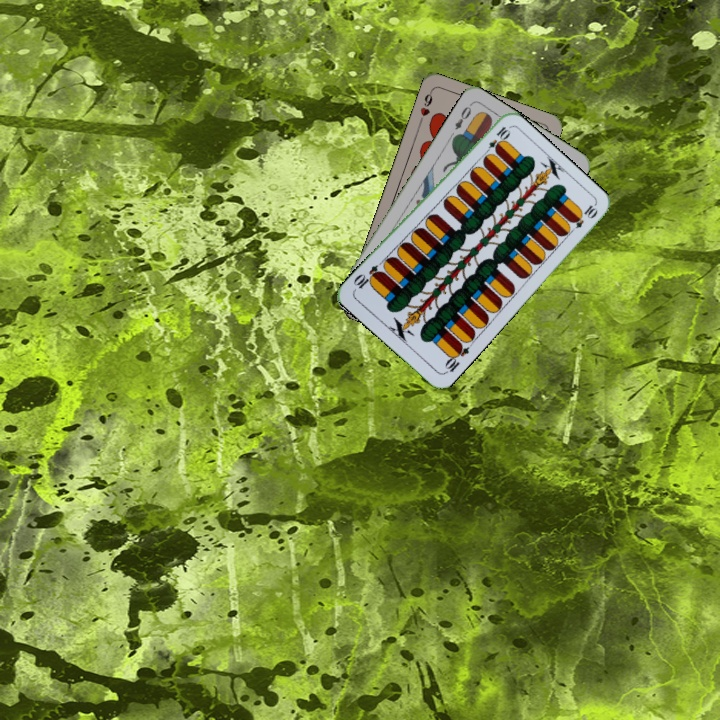E10: (440, 339, 472, 376), (480, 122, 512, 158)
EO: (451, 100, 474, 133)
H9: (415, 87, 435, 126)
